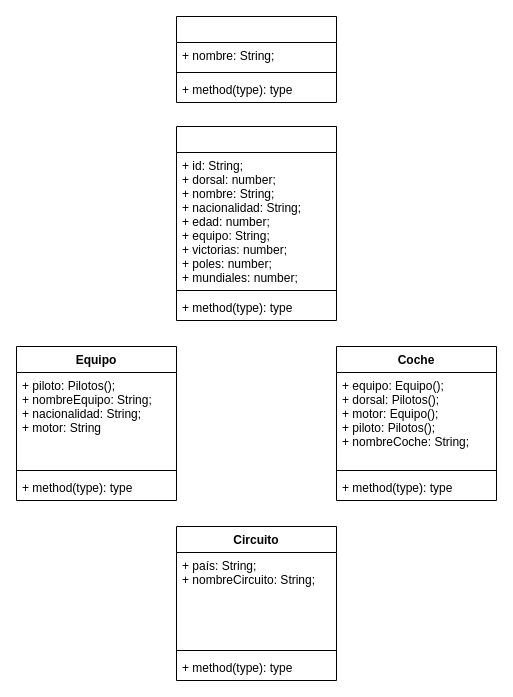
Some shapes in this 513 by 697 pixel diagram are drawn without their labels. Each missing label, with the box of its shape:
Deporte: (176, 16, 336, 102)
Piloto: (176, 126, 336, 320)
